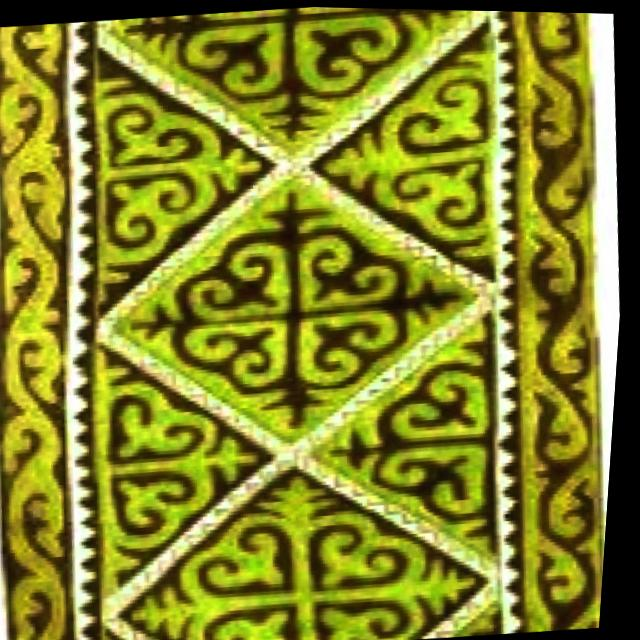Unity: (118, 180, 480, 441), (129, 476, 479, 640), (116, 8, 462, 151), (321, 318, 494, 564), (320, 33, 490, 276), (101, 56, 267, 300), (104, 344, 262, 583)
